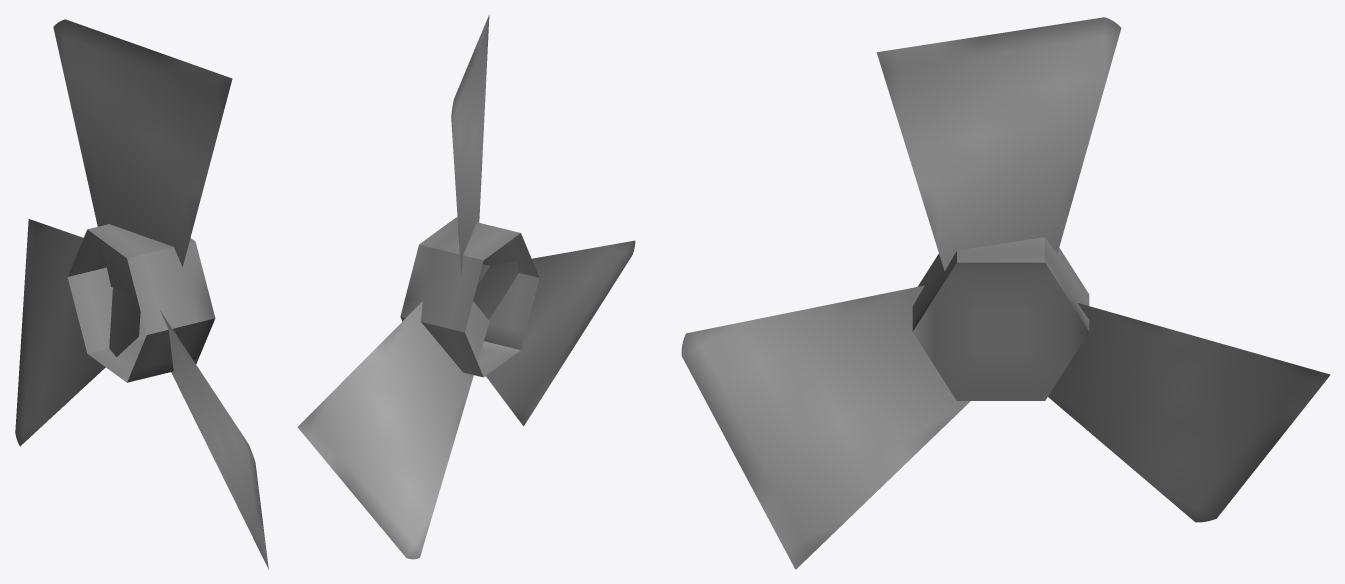
The model's file is fan2.obj.
The picture shows the model from 3 angles, left to right: view 1: azimuth 30°, elevation 25°; view 2: azimuth 150°, elevation 25°; view 3: azimuth 270°, elevation 25°; orthographic projection. The views are drawn at different scales.
Bounding box in the file's own units: 0.1283 × 0.8088 × 0.934.
